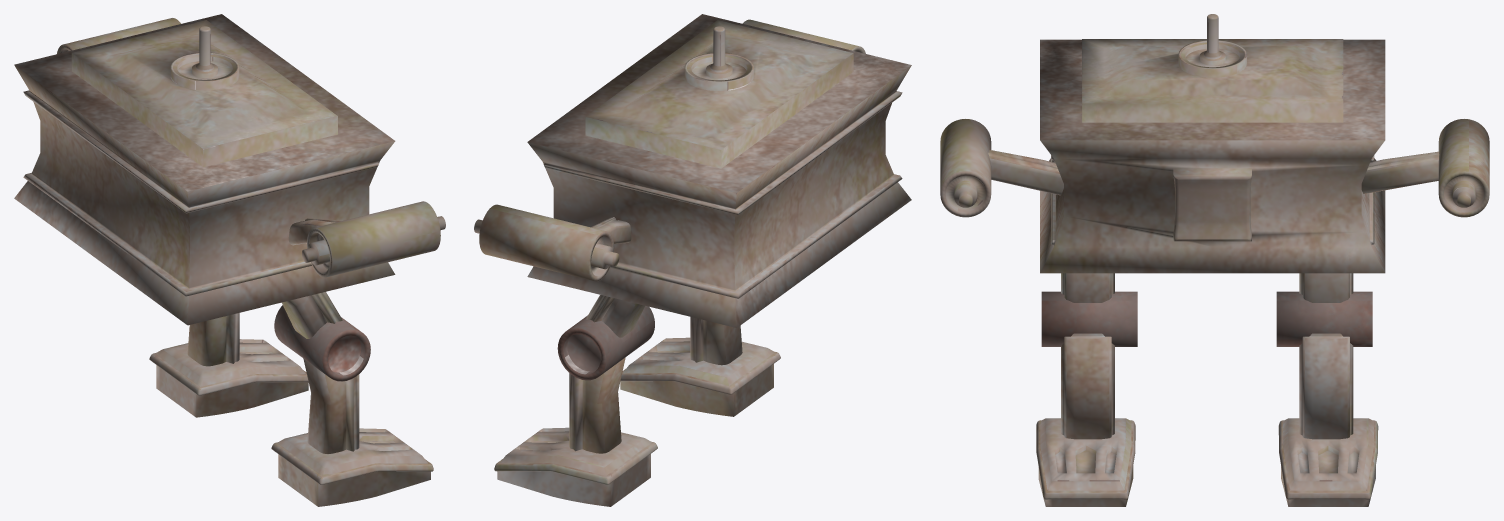
File: Robot.fbx
3 renders of one model, left to right at view 1: azimuth 30°, elevation 25°; view 2: azimuth 150°, elevation 25°; view 3: azimuth 270°, elevation 25°, orthographic.
Parts seen in each view (by area): view 1: Head, Foot_Right, Foot_Left, Gun_Righ, FootSupport_Right, Knee_Right, FootSupport_Left, Leg_Right, Gun_Left, Gun_Support_Right; view 2: Head, Foot_Left, Foot_Right, Gun_Left, FootSupport_Left, Knee_Left, FootSupport_Right, Leg_Left, Gun_Righ, Gun_Support_Left; view 3: Head, Foot_Right, Foot_Left, FootSupport_Left, FootSupport_Right, Gun_Left, Gun_Righ, Knee_Right, Knee_Left, Gun_Support_Left, Gun_Support_Right, Leg_Left (+1 smaller).
Boxes of the visible parts, box(x1,y1,x2,y2) form: Head: box(14, 14, 395, 325); Foot_Right: box(271, 428, 433, 506); Foot_Left: box(149, 339, 308, 417); Gun_Righ: box(302, 201, 445, 277); FootSupport_Right: box(303, 358, 359, 453); Knee_Right: box(274, 305, 370, 381); FootSupport_Left: box(187, 313, 239, 366); Leg_Right: box(282, 292, 342, 338); Gun_Left: box(57, 18, 180, 53); Gun_Support_Right: box(288, 218, 341, 245); Head: box(527, 14, 911, 327); Foot_Left: box(494, 427, 657, 506); Foot_Right: box(620, 337, 780, 416); Gun_Left: box(474, 204, 619, 281); FootSupport_Left: box(569, 357, 625, 453); Knee_Left: box(557, 306, 654, 380); FootSupport_Right: box(690, 317, 742, 365); Leg_Left: box(586, 295, 644, 337); Gun_Righ: box(742, 19, 865, 53); Gun_Support_Left: box(591, 217, 631, 243); Head: box(1040, 14, 1385, 273); Foot_Right: box(1036, 418, 1135, 506); Foot_Left: box(1278, 418, 1378, 506); FootSupport_Left: box(1299, 333, 1353, 439); FootSupport_Right: box(1061, 333, 1114, 439); Gun_Left: box(1438, 119, 1489, 217); Gun_Righ: box(940, 119, 991, 217); Knee_Right: box(1041, 291, 1137, 346); Knee_Left: box(1276, 291, 1372, 346); Gun_Support_Left: box(1361, 151, 1439, 194); Gun_Support_Right: box(988, 150, 1063, 195); Leg_Left: box(1299, 273, 1353, 302).
Size of the model in its own units: 239 by 391 by 460.
1 material, 1 textured.
